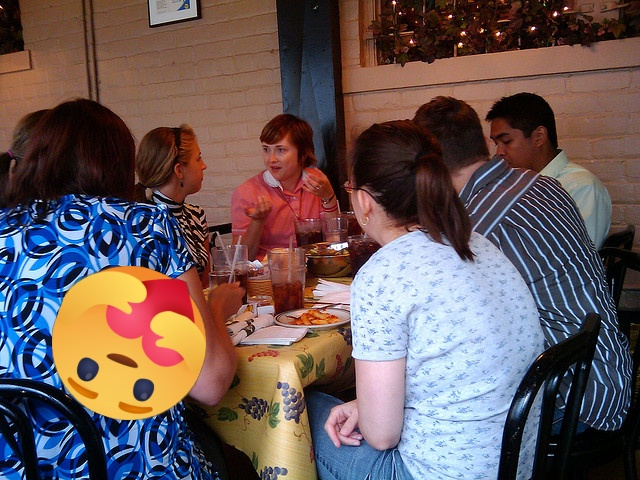care: (52, 266, 206, 420)
